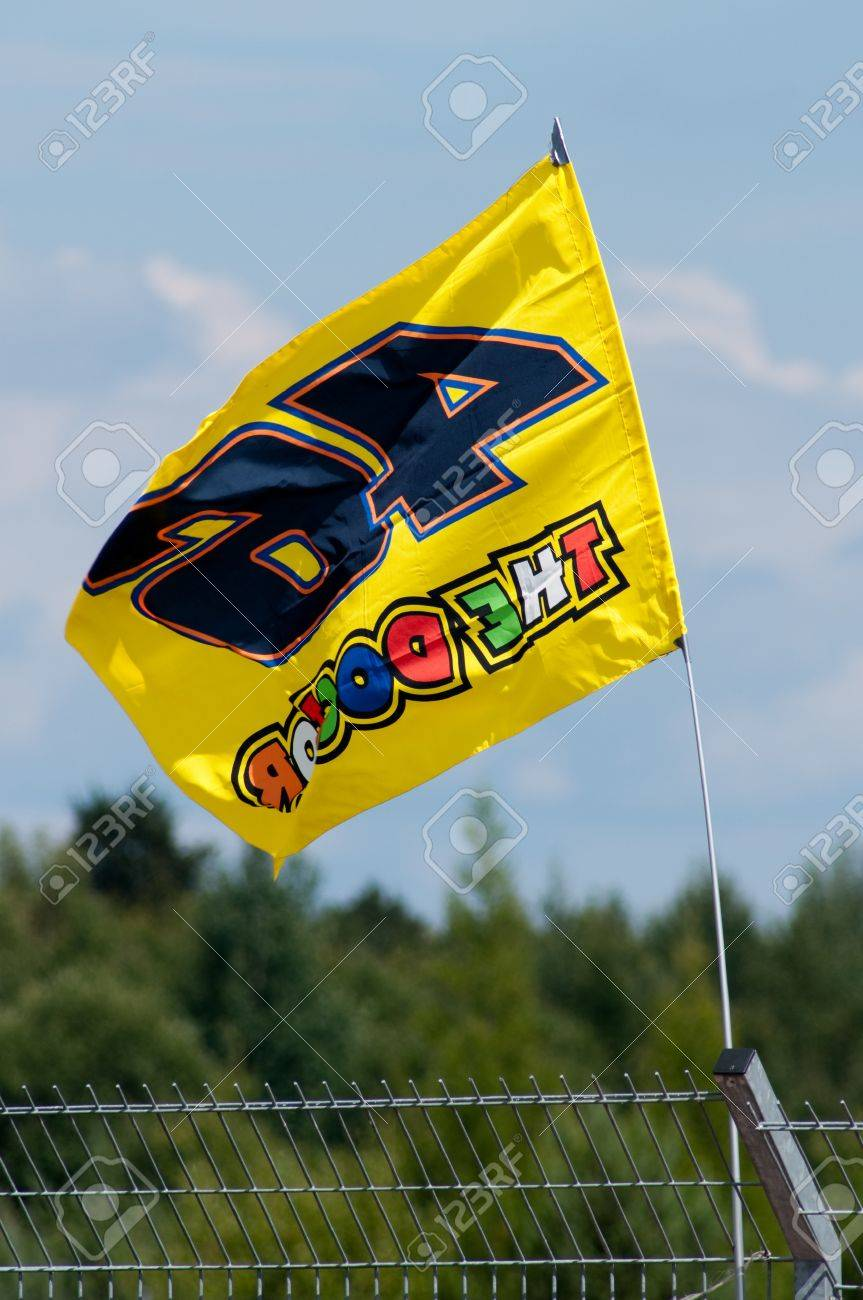Flag: (57, 118, 688, 872)
